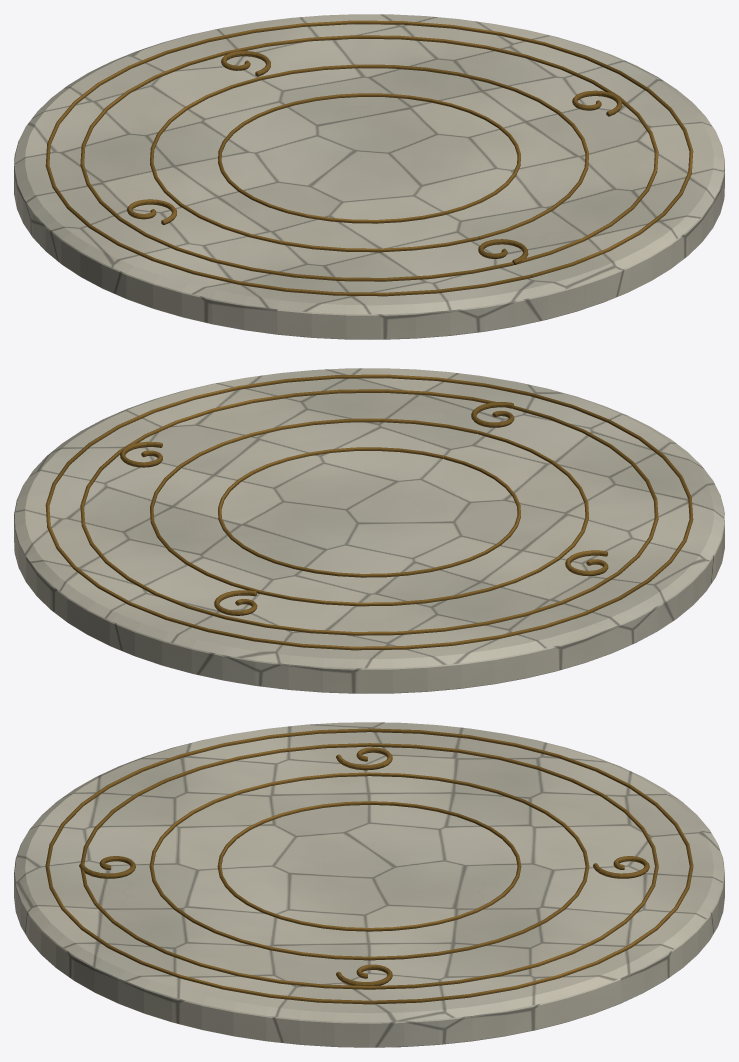
Rendered from t07_array_dais.fbx.
3 renders of one model, top to bottom at view 1: azimuth 30°, elevation 25°; view 2: azimuth 150°, elevation 25°; view 3: azimuth 270°, elevation 25°, orthographic.
Parts seen in each view (by area): view 1: t07_array_dais.004; view 2: t07_array_dais.004; view 3: t07_array_dais.004.
Boxes of the visible parts, bbox=[...] form: t07_array_dais.004: bbox=[14, 14, 724, 339]; t07_array_dais.004: bbox=[14, 368, 724, 693]; t07_array_dais.004: bbox=[14, 722, 724, 1047].
Bounding box in the file's own units: 51200 × 51200 × 2795.
